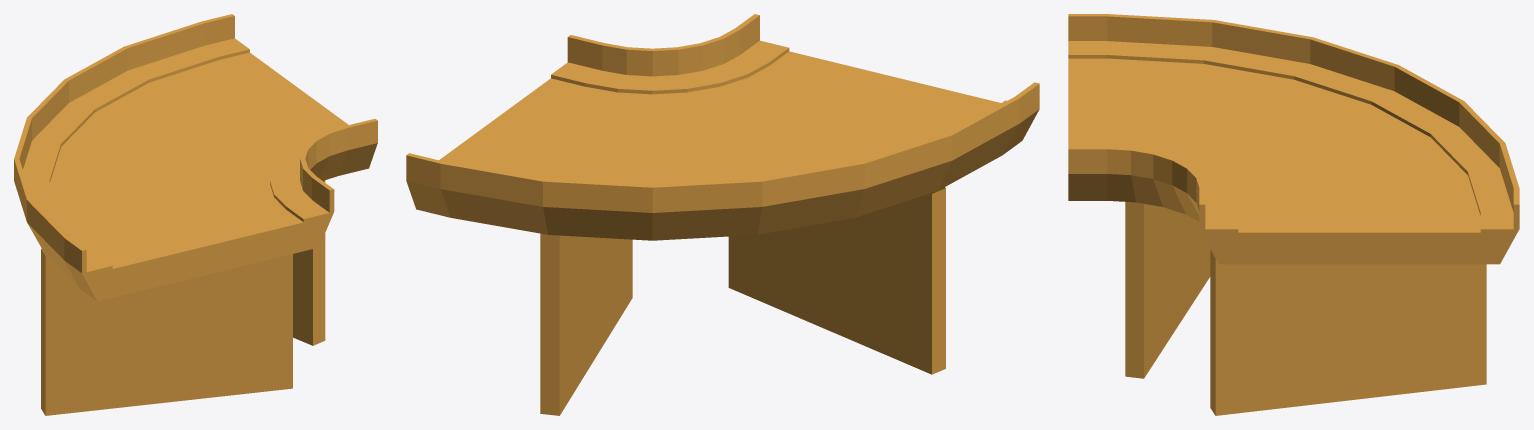
File: bridge-mainroad-curve.glb
3 views of the same model, side by side, from view 1: azimuth 30°, elevation 25°; view 2: azimuth 150°, elevation 25°; view 3: azimuth 270°, elevation 25° (orthographic). The views are drawn at different scales.
Parts seen in each view (by area): view 1: bridge-mainroad-curve; view 2: bridge-mainroad-curve; view 3: bridge-mainroad-curve.
Part boxes in pixels (x1,y1,x2,y2): bridge-mainroad-curve: (14, 14, 377, 415); bridge-mainroad-curve: (406, 14, 1039, 415); bridge-mainroad-curve: (1068, 14, 1519, 415).
Size of the model in its own units: 23.25 by 13.4 by 23.25.
